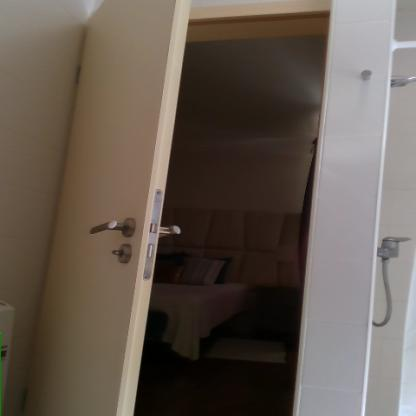semi: (52, 8, 332, 412)
